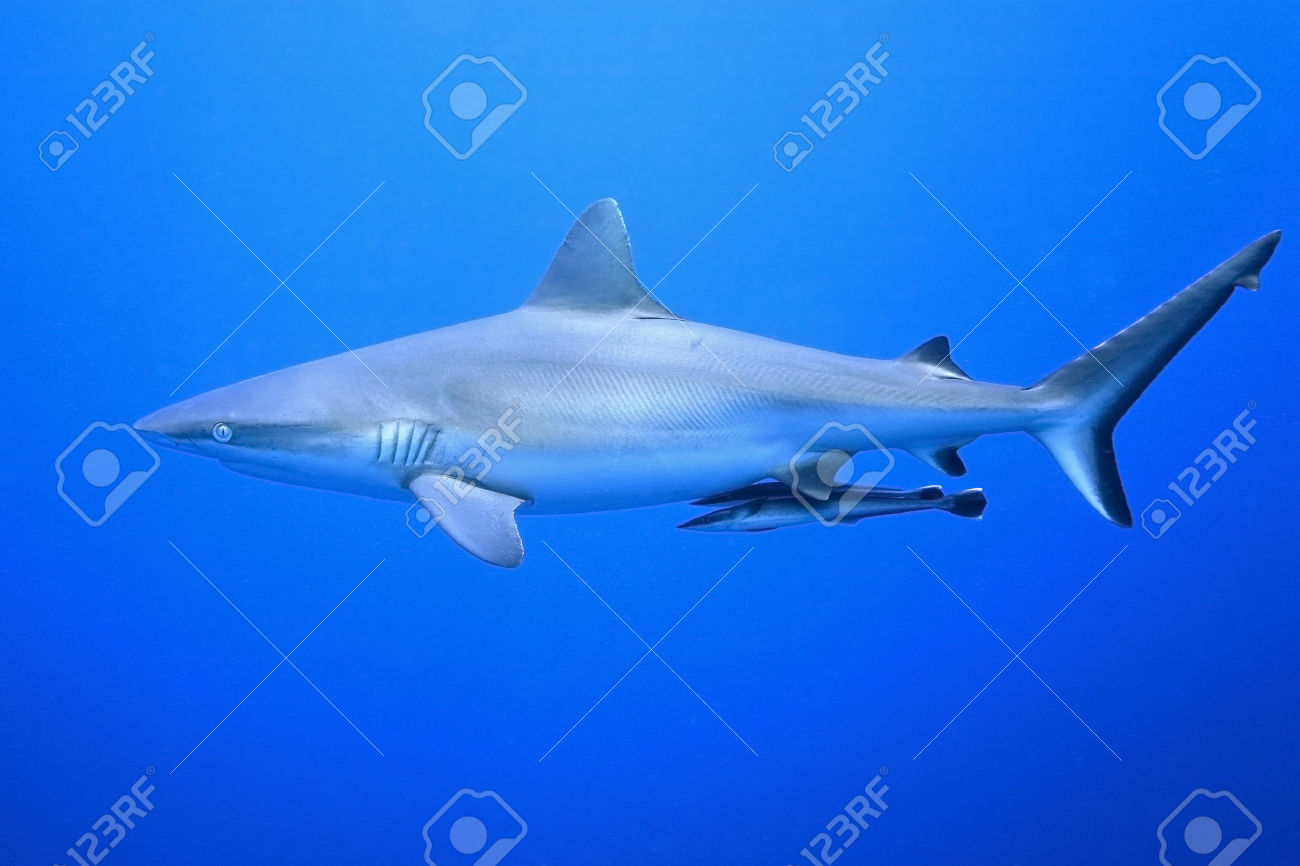Carcharhinus_amblyrhynchos: (83, 192, 1292, 575)
